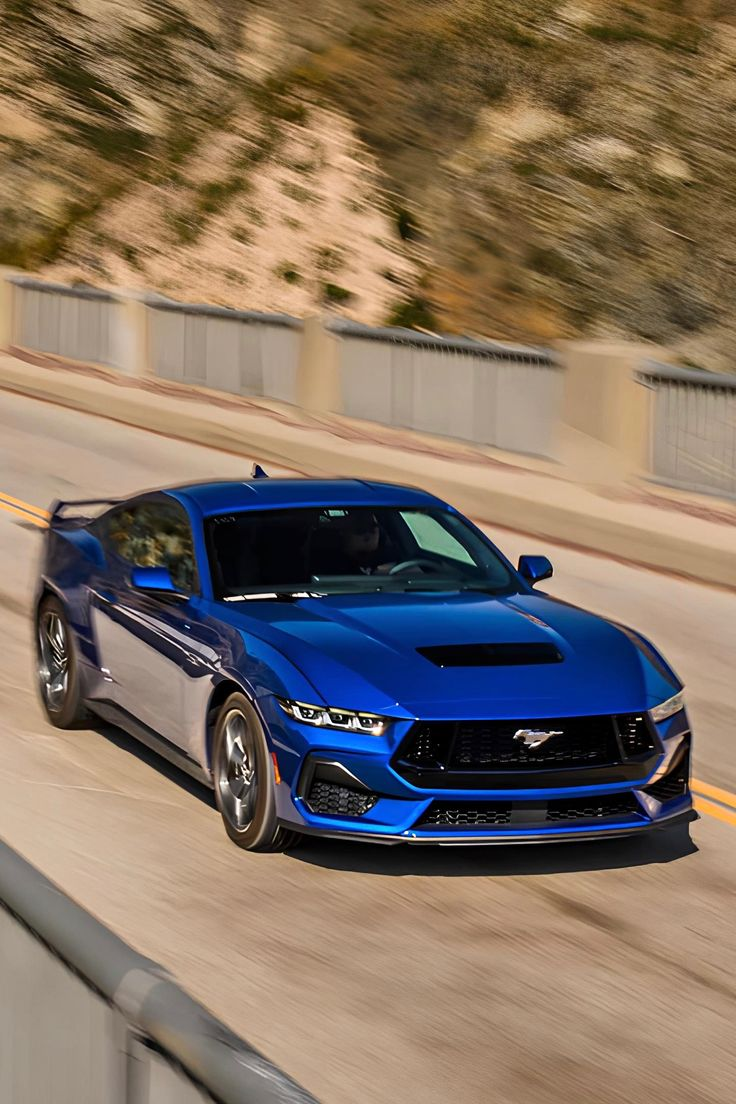car: (29, 430, 702, 888)
